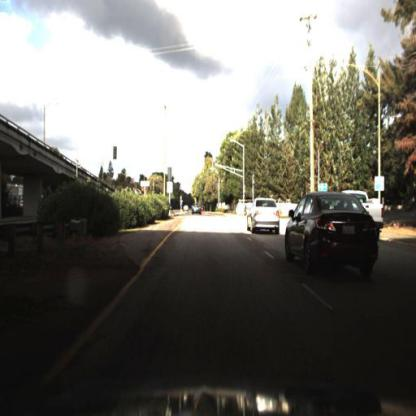car: (283, 200, 383, 292), (245, 197, 285, 234), (361, 190, 388, 232), (190, 201, 204, 217)
trafficLight-Green: (213, 157, 217, 174)
